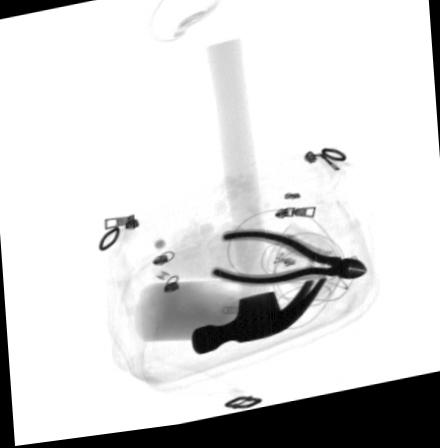Hammer: (189, 44, 326, 361)
Pliers: (208, 235, 367, 294)
